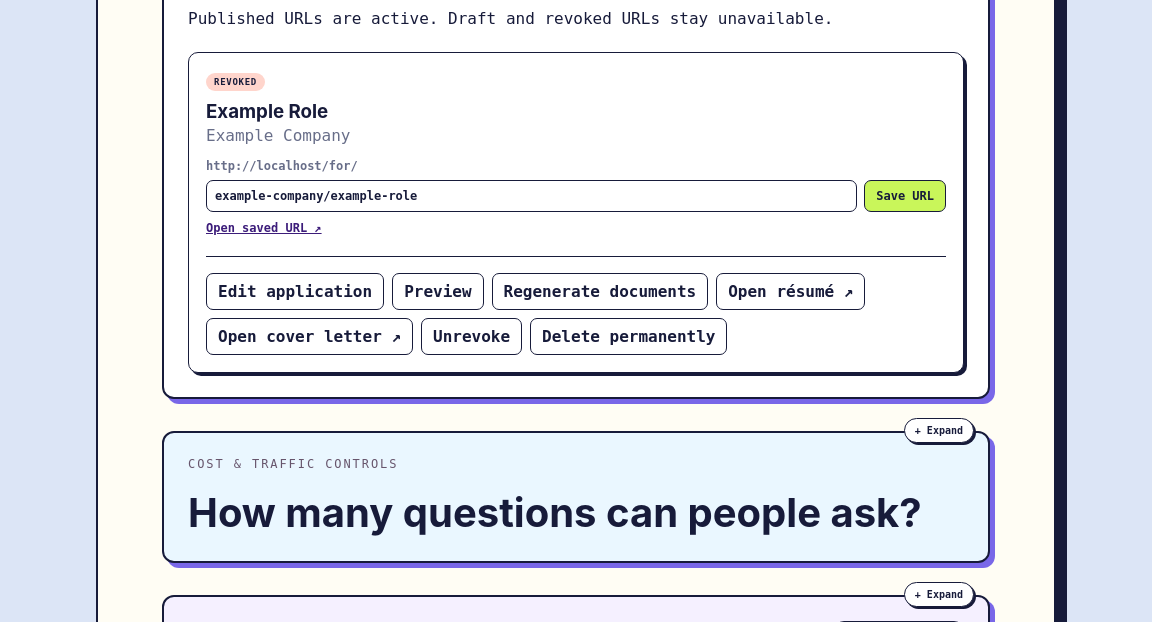
Test: offers an unrevoke control for revoked applications
(page scrolled)
Click the button "Unrevoke".
click(472, 337)  # box [421,318,522,355]
(page scrolled)
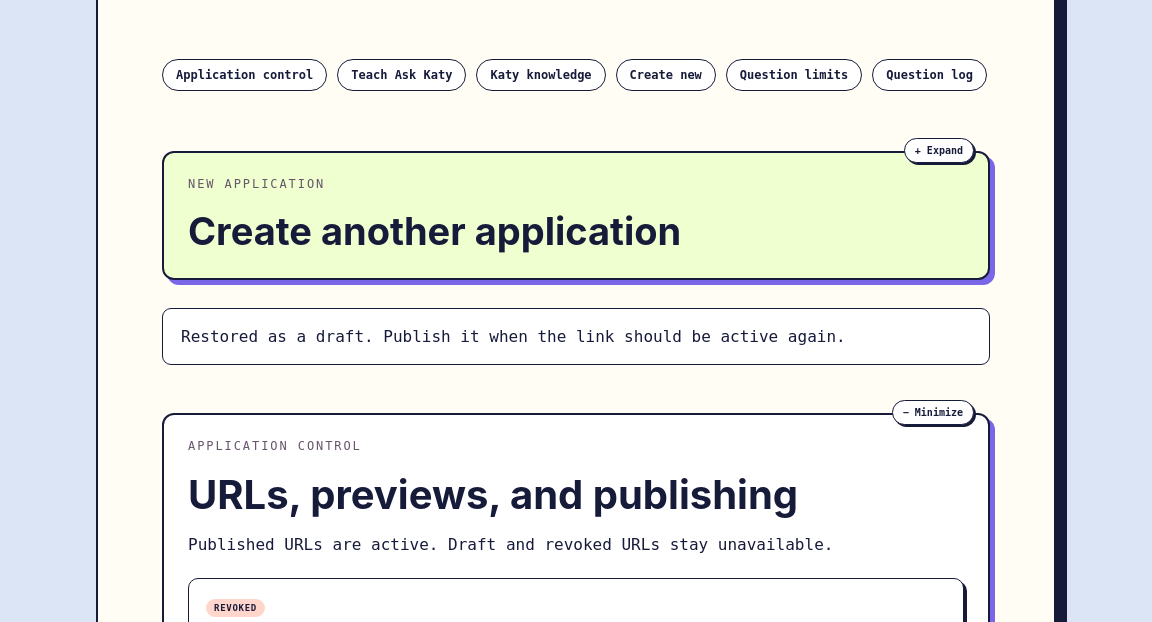
Expected: the text "Restored as a draft. Publish it when the link should be active again." is shown, [162,308,990,365]
